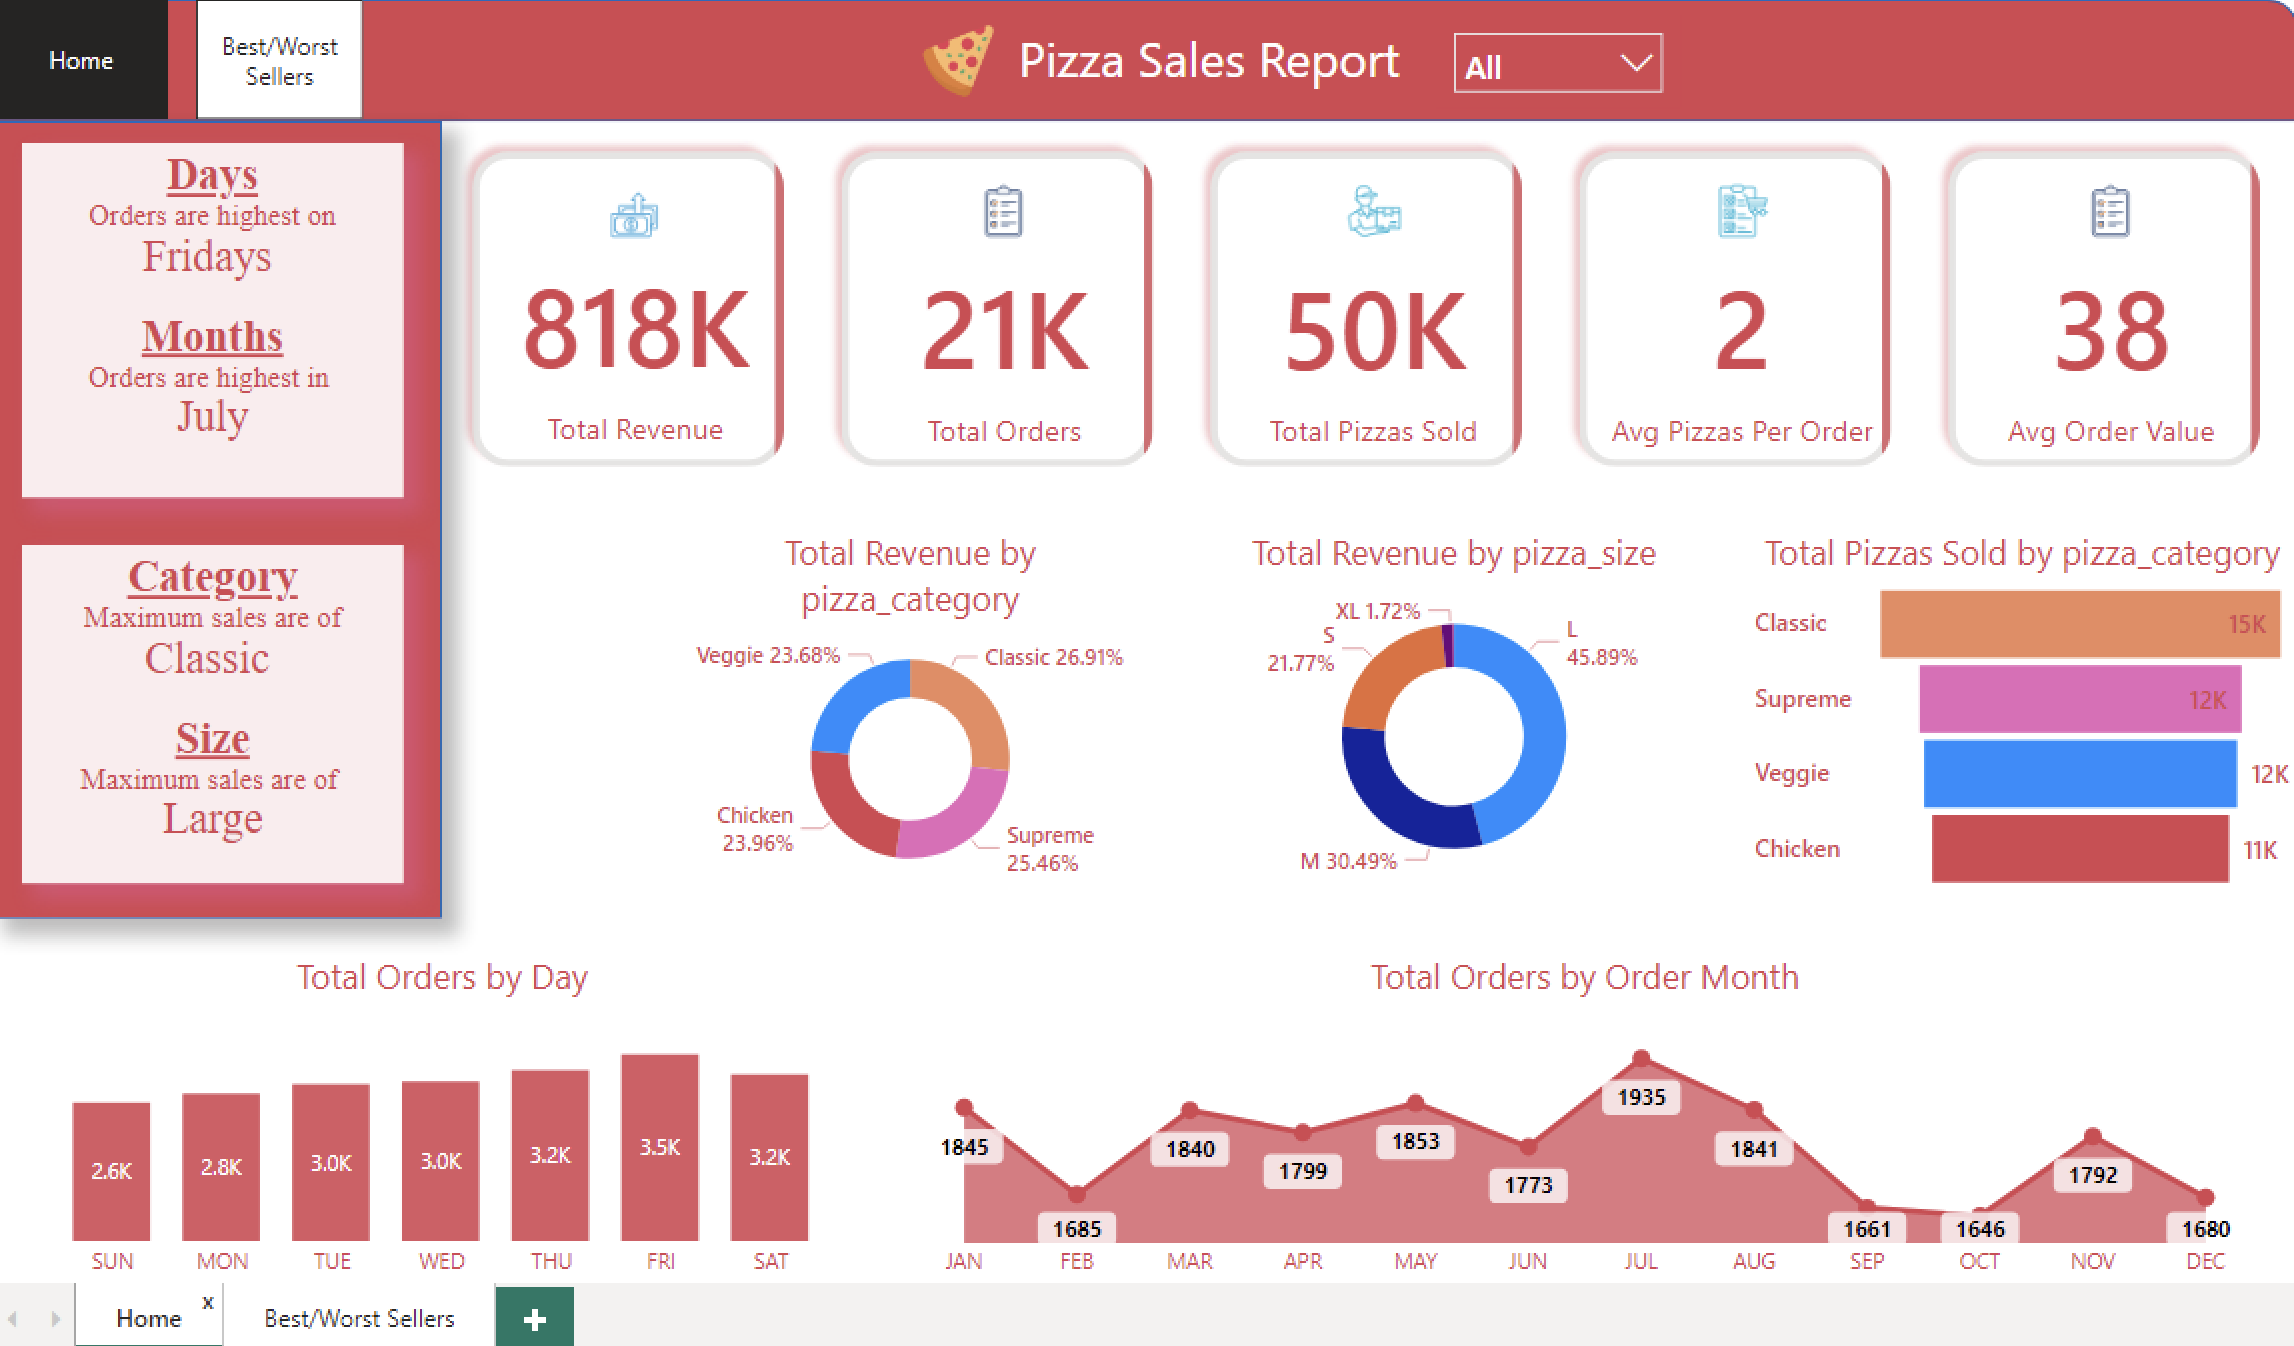

The page's visual inventory and layout, read from the dashboard file:
{"tool":"powerbi","page":{"name":"Home","canvas":[1280,720],"ordinal":0},"visuals":[{"type":"cardVisual","fields":{"Data":["pizza_sales.Total Revenue","pizza_sales.Total Orders","pizza_sales.Total Pizzas Sold","pizza_sales.Avg Pizzas Per Order","pizza_sales.Avg Order Value"]},"box":[248.8,68.1,1031.2,209.2],"z":0},{"type":"shape","box":[0,0,1280,68.1],"z":1000},{"type":"textbox","box":[537.3,8.7,274.8,59.4],"z":2000},{"type":"image","box":[492.7,8.7,87.9,50.8],"z":3000},{"type":"clusteredColumnChart","title":"Total Orders by Day","fields":{"Category":["pizza_sales.Order Day"],"Y":["pizza_sales.Total Orders"]},"box":[14.4,530,468.9,190],"z":4000},{"type":"areaChart","fields":{"Y":["pizza_sales.Total Orders"],"Category":["pizza_sales.Order Month"]},"box":[508.9,530,750,190],"z":5000},{"type":"donutChart","fields":{"Y":["pizza_sales.Total Revenue"],"Category":["pizza_sales.pizza_category"]},"box":[377.6,294.6,262.4,205.5],"z":6000},{"type":"donutChart","fields":{"Y":["pizza_sales.Total Revenue"],"Category":["pizza_sales.pizza_size"]},"box":[685.8,294.6,251.3,205.5],"z":7000},{"type":"funnel","fields":{"Y":["pizza_sales.Total Pizzas Sold"],"Category":["pizza_sales.pizza_category"]},"box":[973,294.6,307,205.5],"z":8000},{"type":"shape","box":[0,68.1,248.8,443.2],"z":9000},{"type":"textbox","box":[16.1,80.5,211.7,196.8],"z":10000},{"type":"textbox","box":[16.1,303.3,211.7,188.2],"z":11000},{"type":"slicer","title":"Category","fields":{"Values":["pizza_sales.pizza_category"]},"box":[800.9,8.7,136.2,52],"z":12000},{"type":"pageNavigator","box":[0,0,97.3,67.6],"z":13000},{"type":"pageNavigator","box":[112.2,0,93.2,67.6],"z":14000}]}

Visuals, with their boxes on the page's 1280x720 design canvas (x1, y1, x2, y2). These are canvas units, not pixel positions in the 2294x1346 screenshot, which may show the page scaled, cropped or inside an application window:
cardVisual - pizza_sales.Total Revenue x pizza_sales.Total Orders: bbox=[249, 68, 1280, 277]
shape: bbox=[0, 0, 1280, 68]
textbox: bbox=[537, 9, 812, 68]
image: bbox=[493, 9, 581, 60]
"Total Orders by Day" clusteredColumnChart: bbox=[14, 530, 483, 720]
areaChart - pizza_sales.Total Orders x pizza_sales.Order Month: bbox=[509, 530, 1259, 720]
donutChart - pizza_sales.Total Revenue x pizza_sales.pizza_category: bbox=[378, 295, 640, 500]
donutChart - pizza_sales.Total Revenue x pizza_sales.pizza_size: bbox=[686, 295, 937, 500]
funnel - pizza_sales.Total Pizzas Sold x pizza_sales.pizza_category: bbox=[973, 295, 1280, 500]
shape: bbox=[0, 68, 249, 511]
textbox: bbox=[16, 80, 228, 277]
textbox: bbox=[16, 303, 228, 492]
"Category" slicer: bbox=[801, 9, 937, 61]
pageNavigator: bbox=[0, 0, 97, 68]
pageNavigator: bbox=[112, 0, 205, 68]
